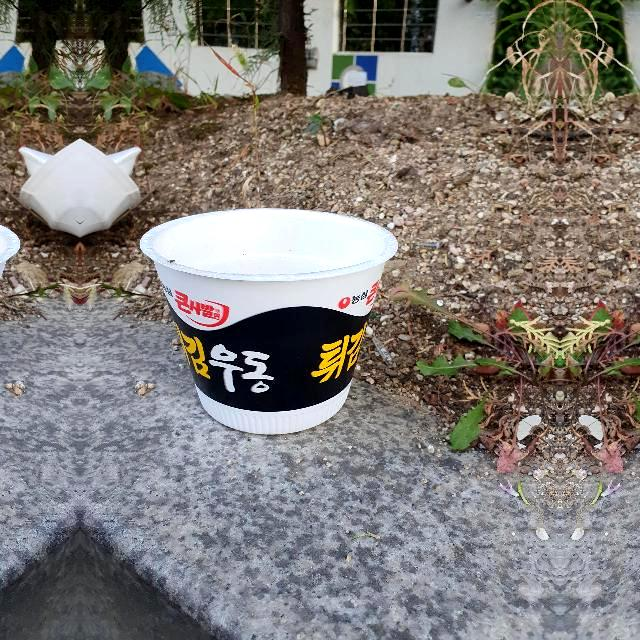Styrofoam: (138, 208, 398, 438), (140, 208, 397, 434)
